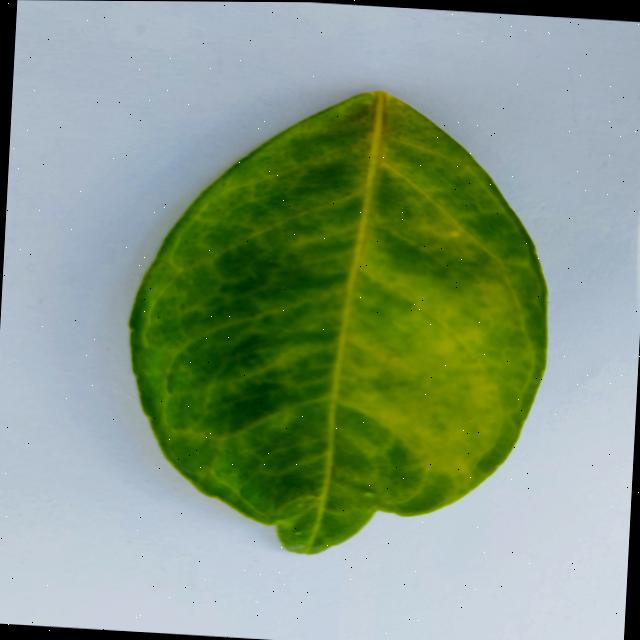greening: (130, 90, 546, 553)
